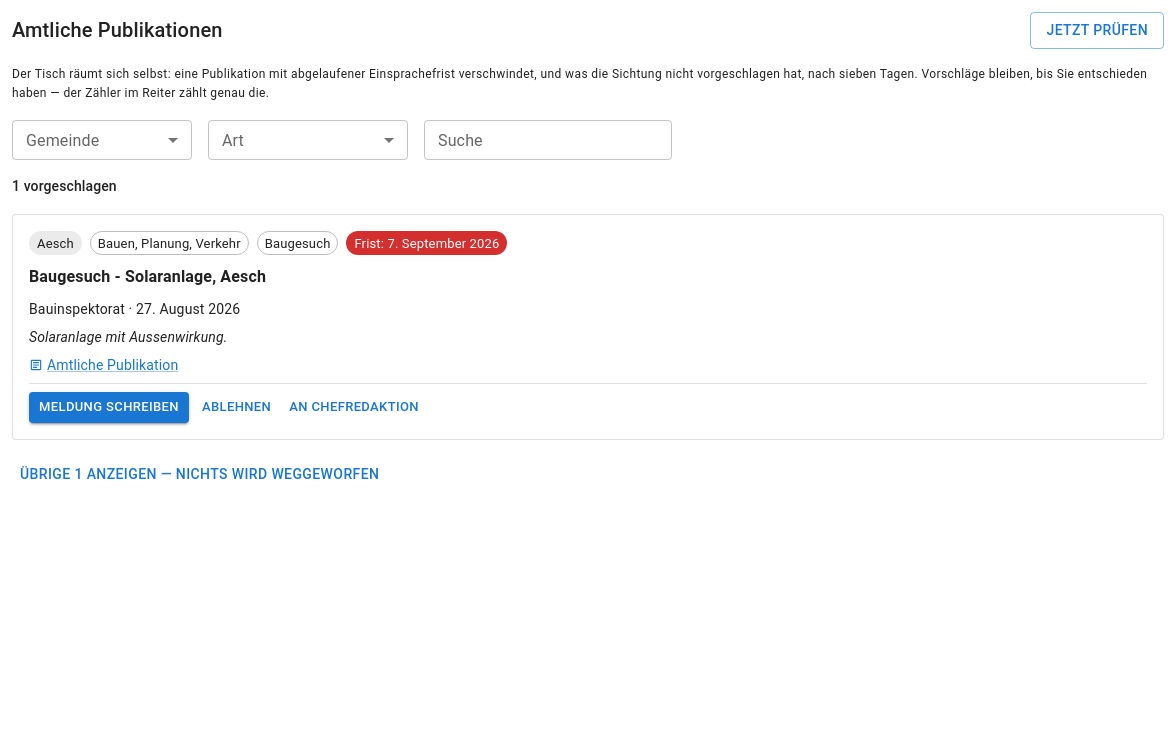
Amtsblatt › klappt die uebrigen weg, ohne sie zu verschweigen
This screenshot has width=1176, height=732.
Expected: the text "Whirlpool" is not shown
What coordinates should you click on to do the following:
click the button "Übrige 1 anzeigen — nichts wird weggeworfen"
I would click on:
 (200, 474)
Its box is [12,456,387,493].
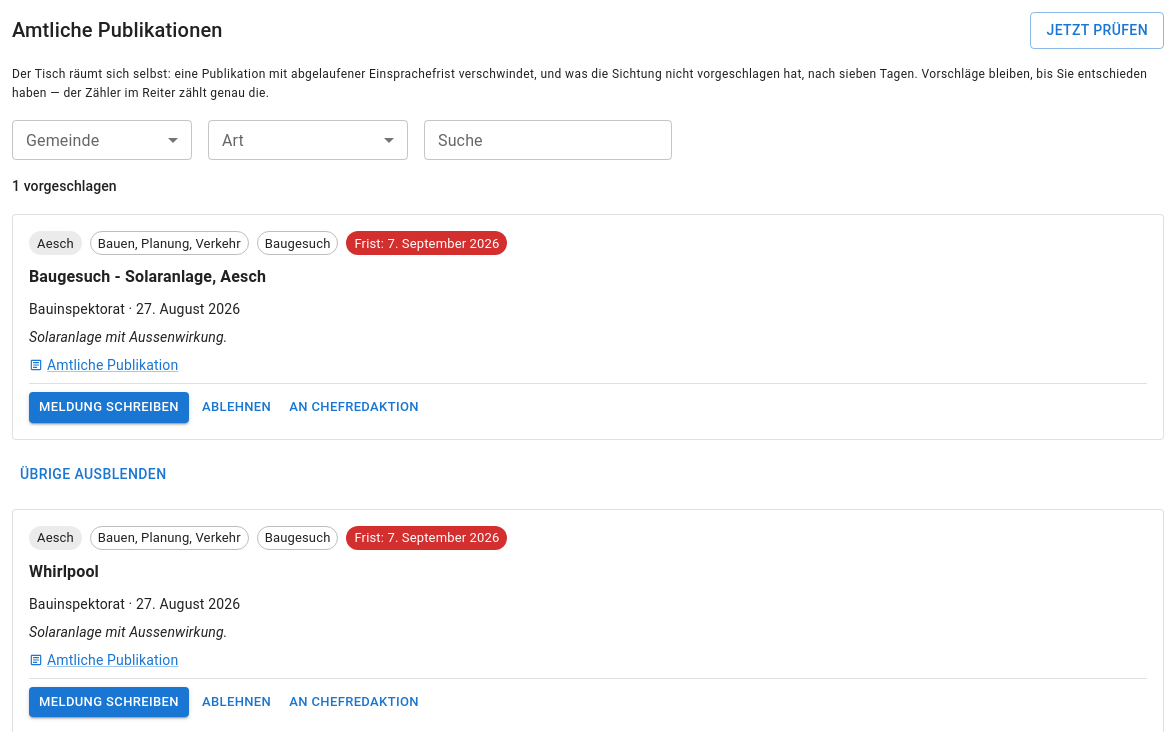
Expected: the heading "Whirlpool" is shown, [29,562,99,581]
